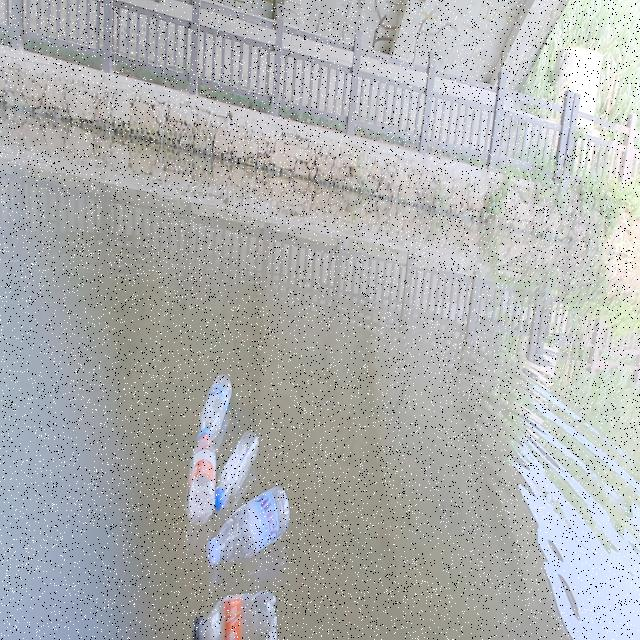Bottle: (206, 487, 292, 564), (188, 584, 294, 640), (214, 425, 260, 509), (184, 432, 217, 526), (196, 362, 232, 436)
